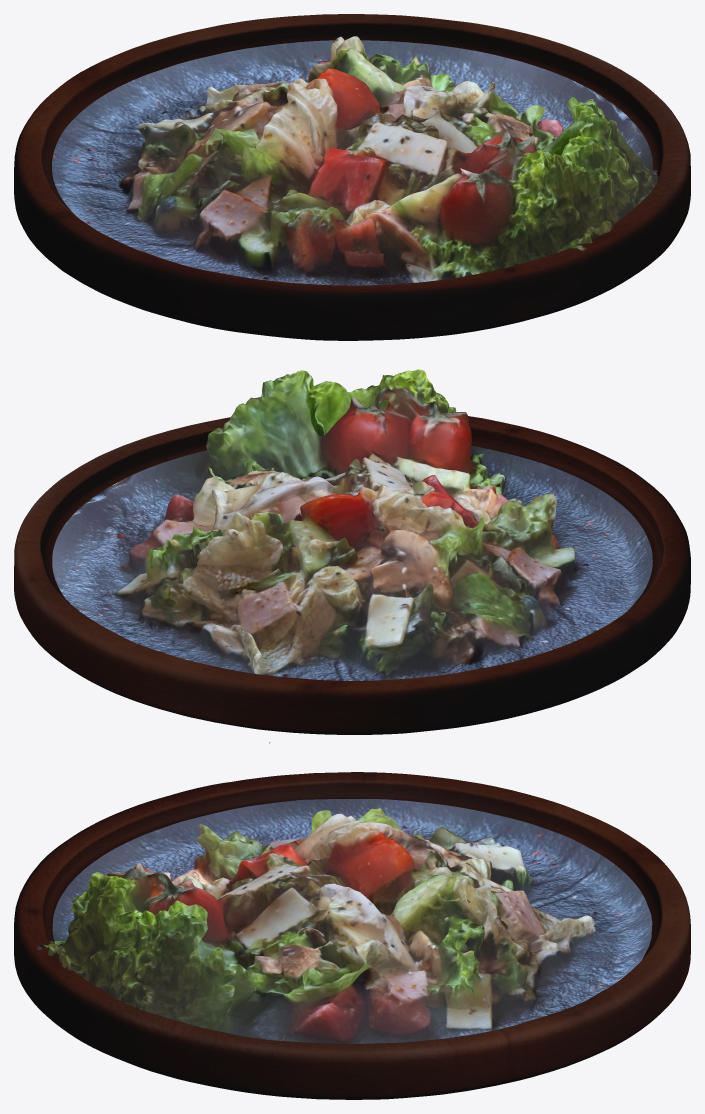
File: Minor.salad.abi.glb
The picture shows the model from 3 angles, top to bottom: view 1: azimuth 30°, elevation 25°; view 2: azimuth 150°, elevation 25°; view 3: azimuth 270°, elevation 25°; orthographic projection.
Visible parts, largest first — view 1: object 1, world; view 2: object 1, world; view 3: object 1, world.
Boxes of the visible parts, x1,y1,x2,y2 form: object 1: (52, 36, 658, 285); world: (14, 14, 690, 340); object 1: (52, 369, 652, 743); world: (14, 416, 690, 734); object 1: (37, 799, 652, 1043); world: (14, 772, 690, 1099).
Bounding box in the file's own units: 0.3301 × 0.0808 × 0.33.
Materials: 3 (3 with a texture image).
